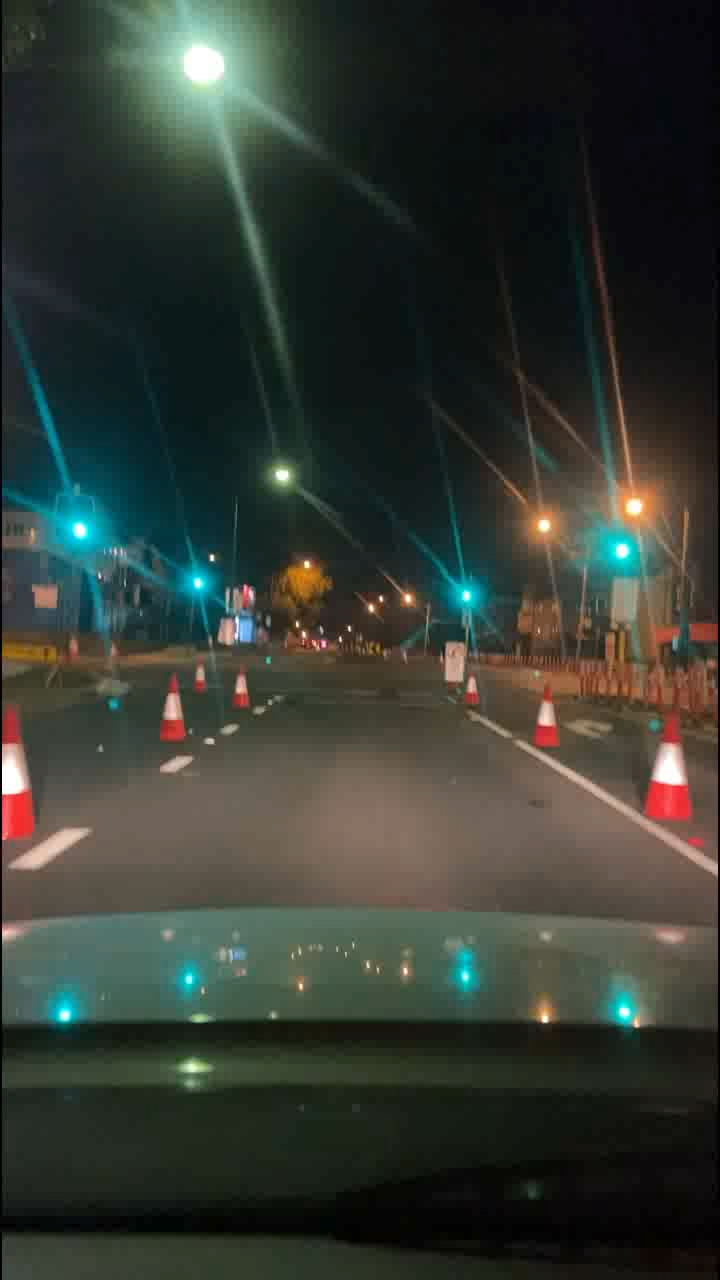road cone: (637, 708, 697, 821), (517, 667, 575, 763), (1, 702, 41, 840), (153, 669, 195, 759), (447, 649, 496, 711), (218, 655, 264, 717)
